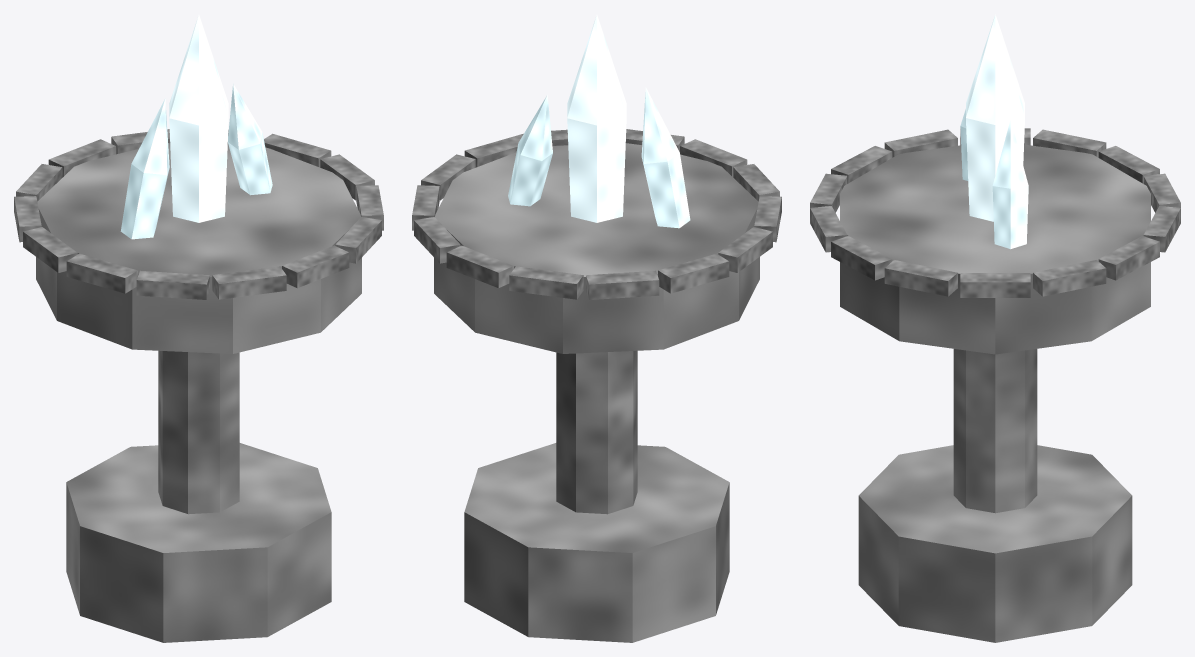
File: crystal-brazier.glb
3 views of the same model, side by side, from view 1: azimuth 30°, elevation 25°; view 2: azimuth 150°, elevation 25°; view 3: azimuth 270°, elevation 25° (orthographic).
Visible parts, largest first — view 1: foot, bowl, stem, center-crystal, left-crystal, right-crystal, bowl-rim-4, bowl-rim-5, bowl-rim-6, bowl-rim-3, bowl-rim-7, bowl-rim-2 (+7 smaller); view 2: foot, bowl, stem, center-crystal, left-crystal, right-crystal, bowl-rim-10, bowl-rim-9, bowl-rim-8, bowl-rim-11, bowl-rim-7, bowl-rim-12 (+6 smaller); view 3: bowl, foot, stem, center-crystal, right-crystal, bowl-rim-1, bowl-rim-13, bowl-rim-0, bowl-rim-2, bowl-rim-12, bowl-rim-6, bowl-rim-8 (+6 smaller).
Part boxes in pixels (box(x1,y1,x2,y2)): foot: box(66, 443, 331, 642); bowl: box(36, 143, 361, 353); stem: box(158, 350, 239, 514); center-crystal: box(169, 15, 228, 222); left-crystal: box(120, 98, 169, 239); right-crystal: box(228, 83, 272, 195); bowl-rim-4: box(212, 266, 286, 299); bowl-rim-5: box(136, 270, 209, 299); bowl-rim-6: box(66, 253, 137, 293); bowl-rim-3: box(282, 245, 349, 288); bowl-rim-7: box(23, 227, 77, 272); bowl-rim-2: box(335, 217, 381, 263); foot: box(464, 443, 729, 642); bowl: box(434, 143, 759, 353); stem: box(556, 350, 637, 514); center-crystal: box(567, 15, 626, 222); left-crystal: box(641, 87, 690, 228); right-crystal: box(508, 95, 552, 206); bowl-rim-10: box(509, 266, 583, 299); bowl-rim-9: box(586, 270, 659, 299); bowl-rim-8: box(658, 253, 729, 293); bowl-rim-11: box(446, 245, 513, 288); bowl-rim-7: box(718, 227, 772, 272); bowl-rim-12: box(414, 217, 460, 263); bowl: box(840, 144, 1150, 354); foot: box(858, 445, 1132, 642); stem: box(953, 349, 1037, 513); center-crystal: box(966, 14, 1024, 221); right-crystal: box(992, 120, 1028, 249); bowl-rim-1: box(884, 260, 957, 296); bowl-rim-13: box(1033, 260, 1106, 296); bowl-rim-0: box(960, 273, 1030, 297); bowl-rim-2: box(831, 236, 892, 280); bowl-rim-12: box(1098, 236, 1159, 280); bowl-rim-6: box(884, 129, 957, 157); bowl-rim-8: box(1033, 129, 1106, 157).
Size of the model in its own units: 0.9585 by 1.66 by 0.9758.
Materials: 5 (5 with a texture image).
